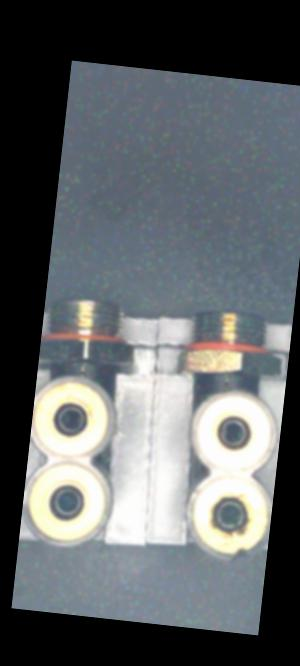bump: (223, 540, 258, 567)
craze: (75, 357, 89, 380), (219, 371, 234, 392)
